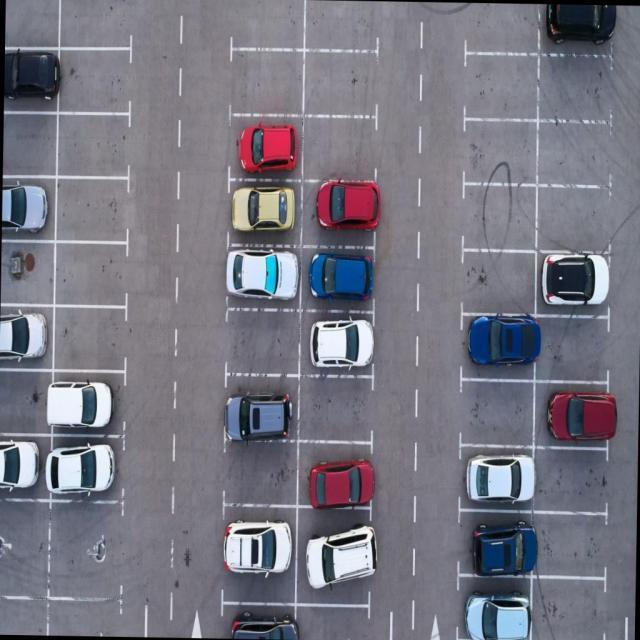car: (295, 508, 371, 602), (223, 504, 294, 600), (461, 307, 538, 377), (51, 433, 122, 501), (297, 313, 372, 377), (536, 385, 610, 449), (456, 575, 529, 638), (222, 376, 296, 438), (458, 510, 532, 572), (298, 246, 374, 306), (458, 442, 530, 503), (298, 186, 372, 244), (293, 446, 372, 500), (540, 252, 611, 312), (227, 116, 302, 172), (227, 183, 302, 238), (54, 372, 124, 430), (538, 4, 614, 54), (0, 305, 54, 374), (230, 247, 300, 297), (4, 53, 57, 114), (0, 434, 50, 496), (1, 178, 54, 232), (220, 604, 294, 640)
free: (48, 500, 124, 594), (52, 240, 130, 308), (459, 187, 539, 252), (461, 118, 537, 186), (538, 184, 614, 250), (536, 512, 606, 583), (460, 247, 540, 309), (230, 50, 304, 116), (51, 115, 132, 175), (52, 180, 129, 243), (461, 383, 535, 448), (228, 306, 298, 374), (54, 308, 128, 372), (300, 57, 378, 116), (530, 580, 606, 640), (295, 379, 372, 437), (0, 504, 48, 597), (539, 315, 612, 376), (533, 451, 607, 511), (301, 118, 377, 176), (463, 2, 539, 60), (222, 444, 294, 504), (54, 0, 134, 53), (59, 57, 132, 115), (540, 58, 609, 119), (540, 128, 610, 186), (464, 66, 536, 118), (304, 0, 382, 46), (0, 370, 53, 434), (2, 114, 58, 174), (230, 0, 303, 44), (1, 245, 52, 299), (45, 600, 118, 636), (5, 0, 58, 48), (295, 612, 373, 640), (0, 599, 47, 635)
